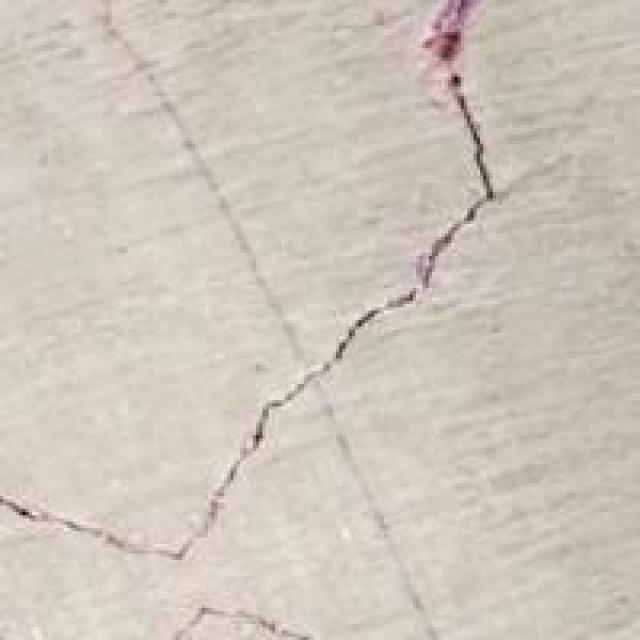Crack: (0, 0, 534, 589)
